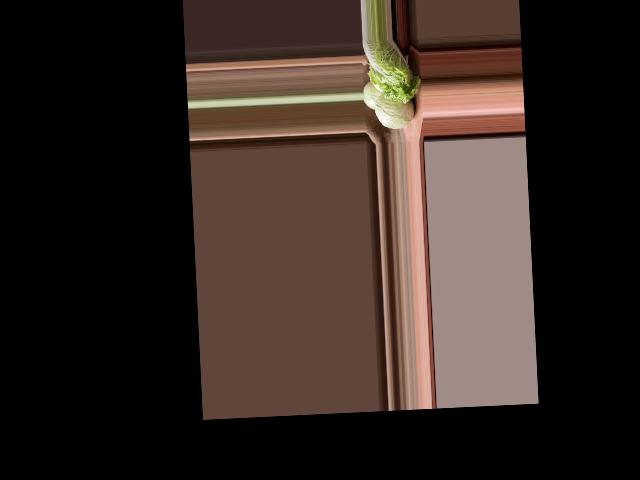lettuce: (364, 38, 422, 105)
